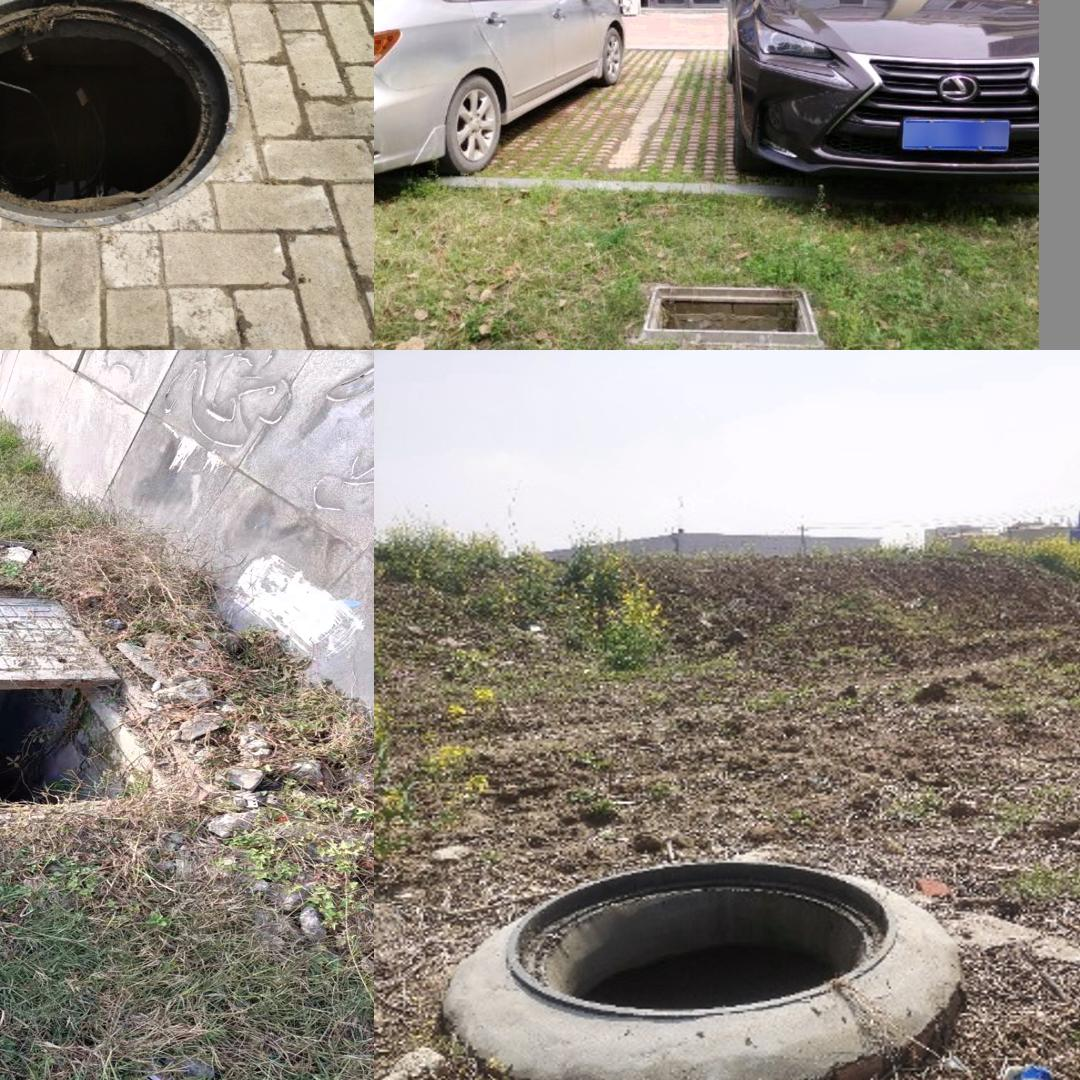lose: (508, 858, 899, 1019), (0, 0, 238, 226), (0, 575, 155, 803), (640, 276, 817, 341)
